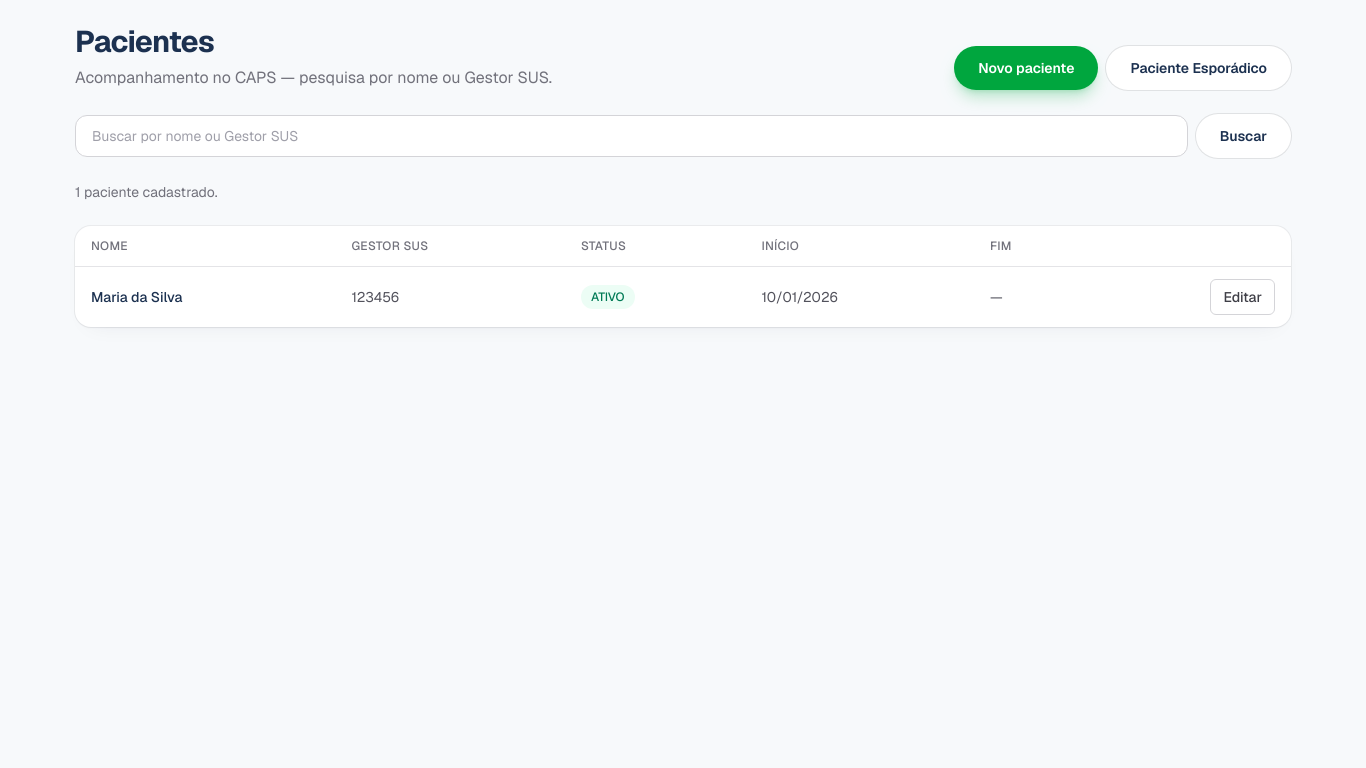
Test: PacientesView — interações › autorizador abre o formulário de novo paciente (origem regular)
This screenshot has width=1366, height=768.
Click the button "Novo paciente": coordinates (1026, 68) [954,46,1098,90]
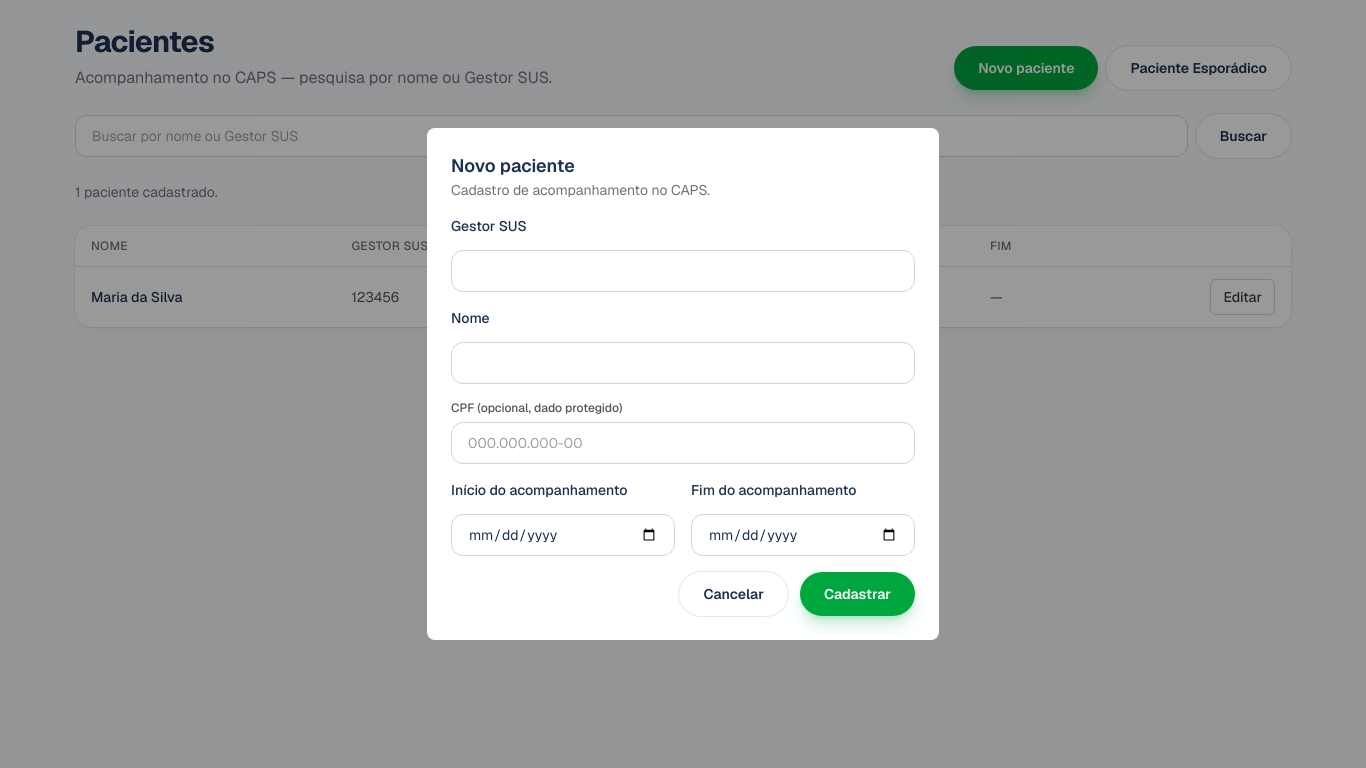
Result: the dialog "Novo paciente" is shown
Result: the field labelled "Gestor SUS" is shown at [451,250,915,292]
